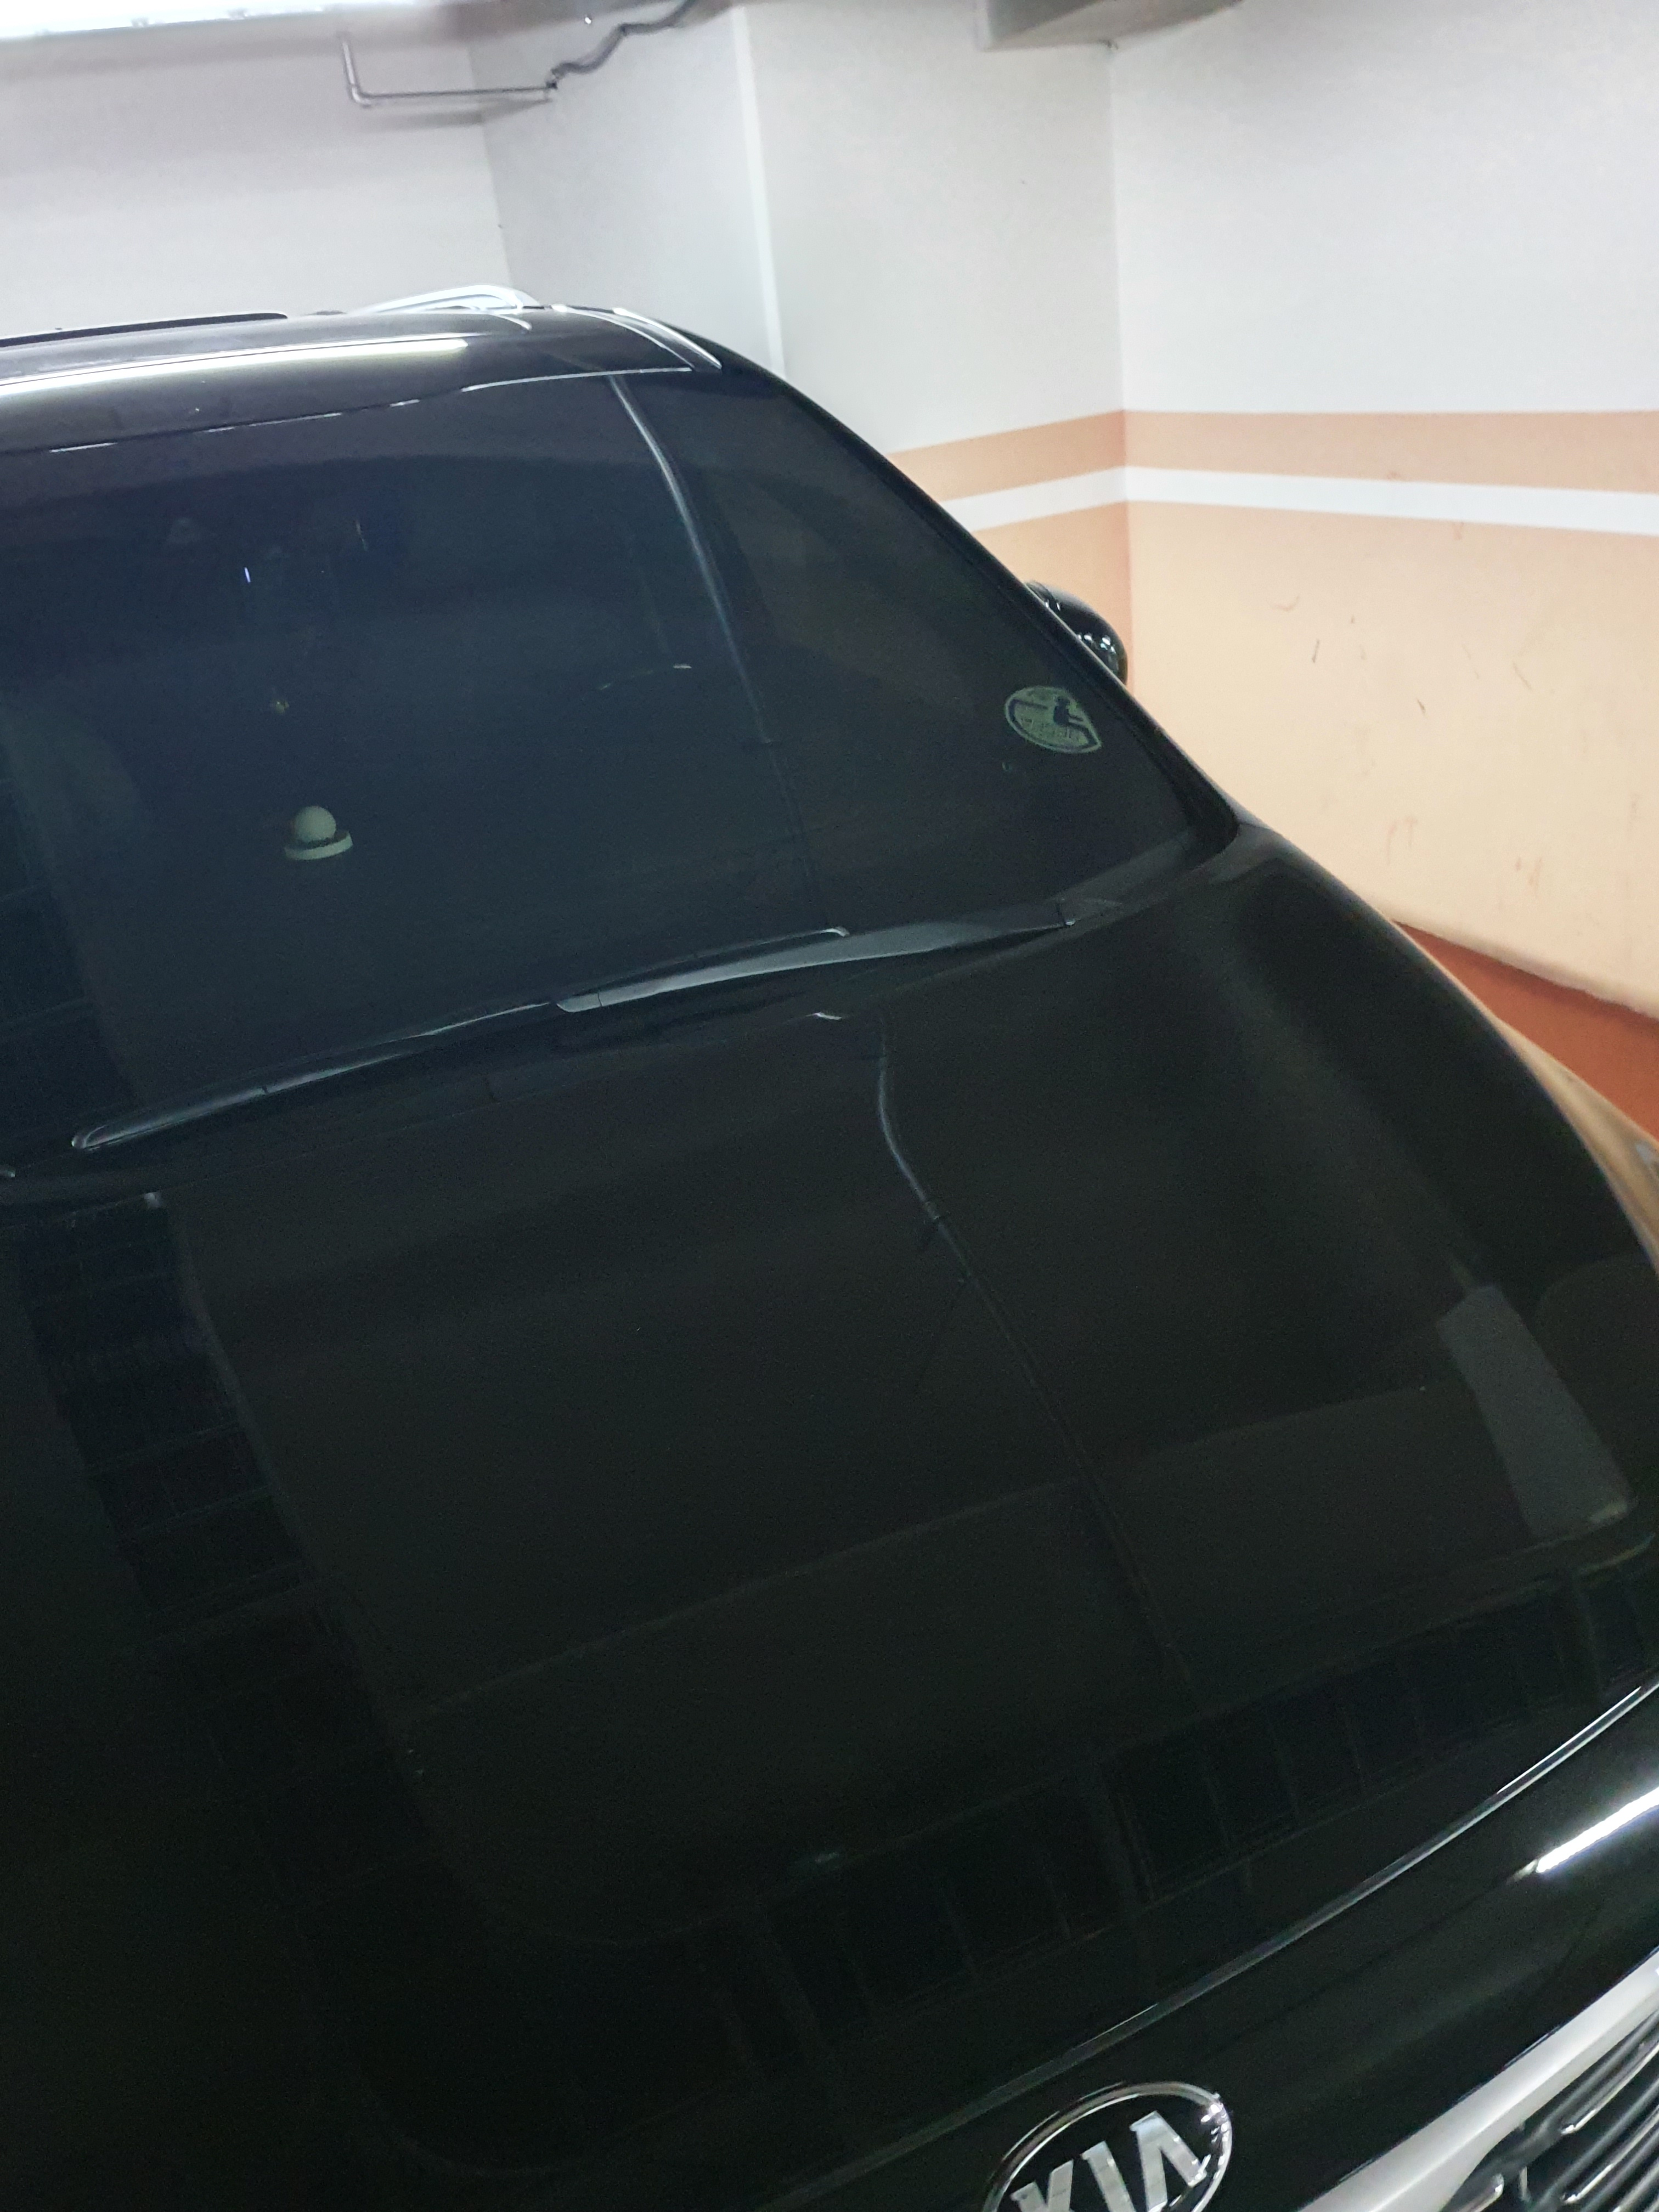disabled_parking: (993, 669, 1112, 761)
